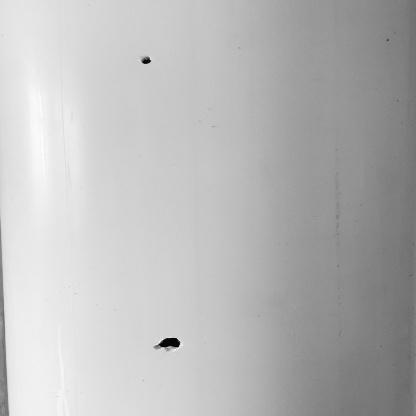kongdong: (148, 332, 190, 354), (135, 51, 159, 68)
